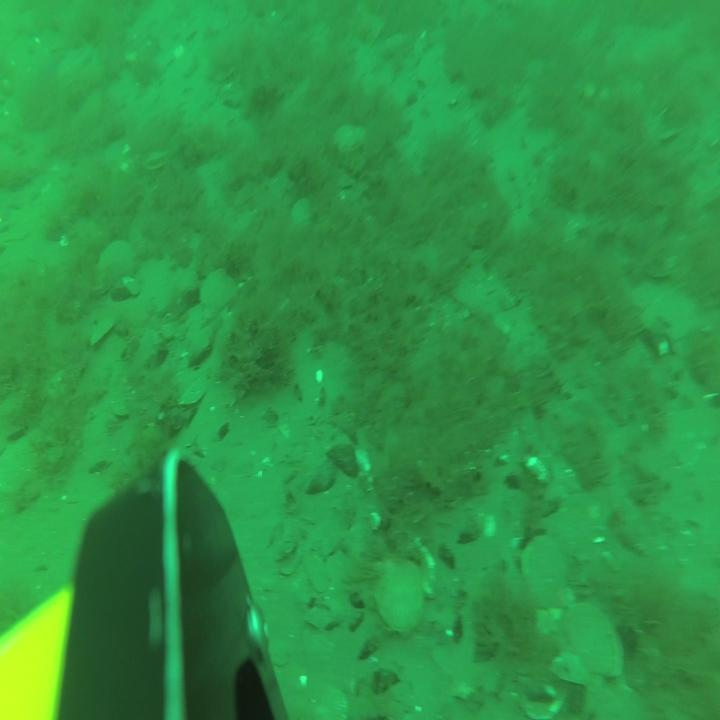scallop: (548, 596, 625, 688), (376, 555, 426, 637), (520, 530, 569, 611), (198, 264, 241, 324), (98, 237, 136, 287), (331, 118, 370, 160), (290, 192, 320, 236), (140, 145, 173, 176)
